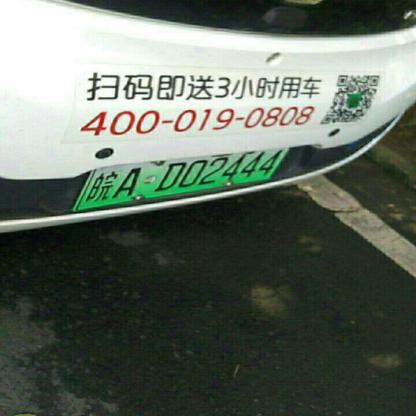lp: (77, 147, 286, 209)
